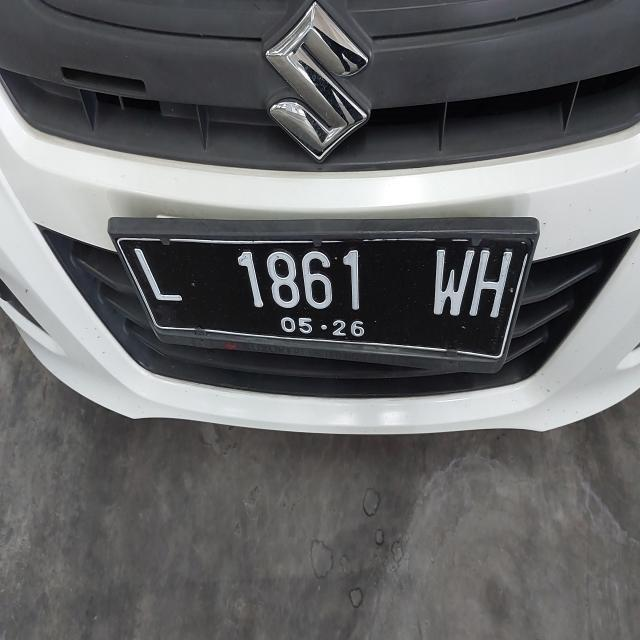1: (224, 235, 266, 332), (336, 232, 374, 322)
6: (296, 221, 339, 319)
8: (262, 225, 300, 322)
H: (466, 240, 511, 328)
L: (124, 232, 192, 330)
W: (429, 231, 474, 340)
